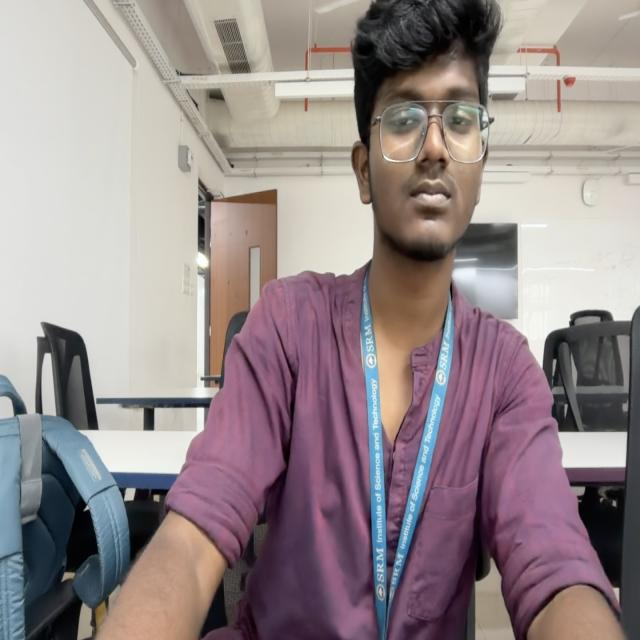ravindra: (353, 0, 499, 262)
